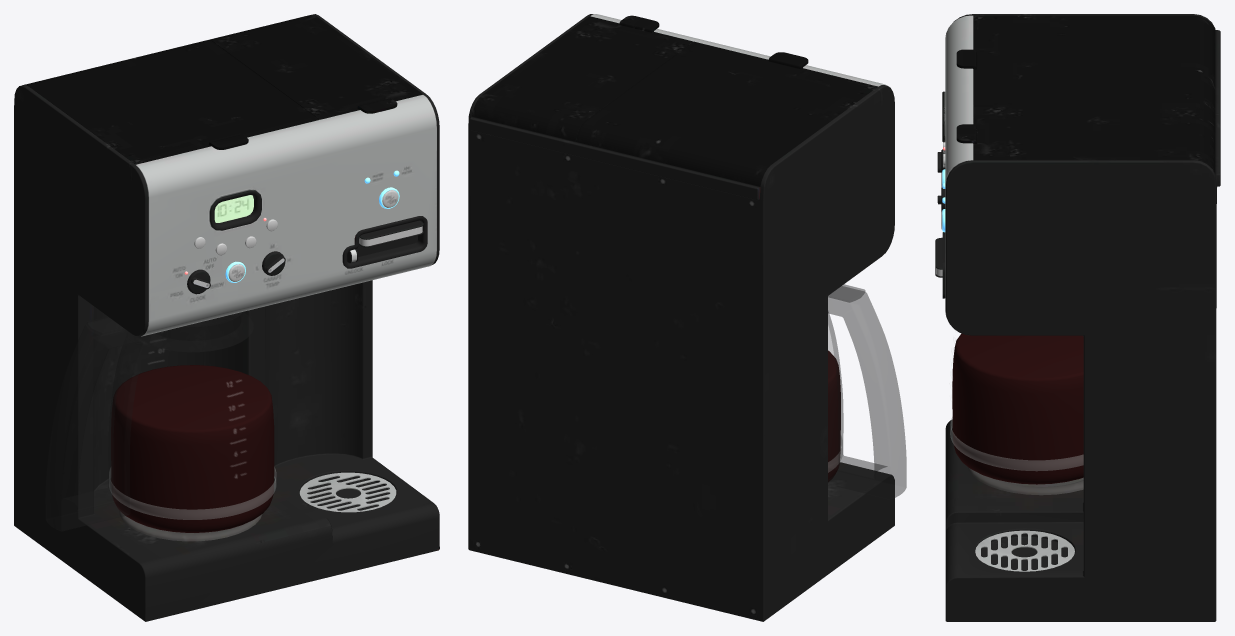
The model's file is cuisinart_coffee_maker.glb.
The picture shows the model from 3 angles, left to right: view 1: azimuth 30°, elevation 25°; view 2: azimuth 150°, elevation 25°; view 3: azimuth 270°, elevation 25°; orthographic projection. The views are drawn at different scales.
Parts seen in each view (by area): view 1: Object_4, Object_2, Object_5; view 2: Object_4, Object_5, Object_2; view 3: Object_4, Object_2, Object_5.
Boxes of the visible parts, x1,y1,x2,y2 form: Object_4: (14, 14, 439, 621); Object_2: (111, 365, 274, 532); Object_5: (45, 310, 275, 531); Object_4: (468, 14, 894, 621); Object_5: (828, 284, 906, 499); Object_2: (828, 350, 840, 482); Object_4: (935, 14, 1220, 621); Object_2: (952, 333, 1083, 484); Object_5: (950, 417, 1083, 470).
Size of the model in its own units: 2.37 by 2.96 by 1.65.
3 materials, 2 textured.
